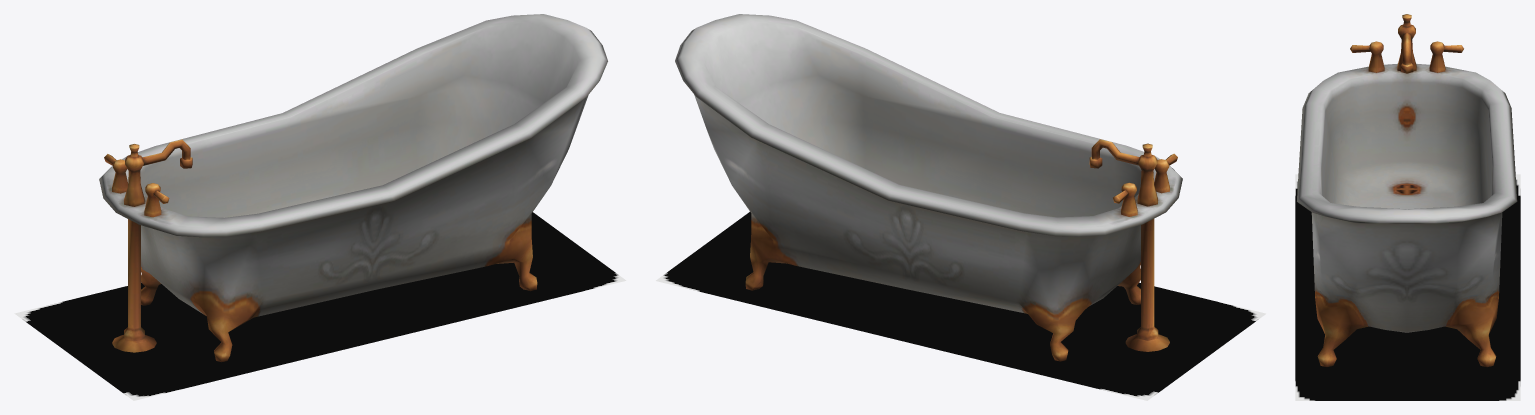
Rendered from jj_ty_bathtubs06_01.FBX.
3 renders of one model, left to right at view 1: azimuth 30°, elevation 25°; view 2: azimuth 150°, elevation 25°; view 3: azimuth 270°, elevation 25°, orthographic. The views are drawn at different scales.
Parts seen in each view (by area): view 1: jj_ty_bathtubs06_01, yinying; view 2: jj_ty_bathtubs06_01, yinying; view 3: jj_ty_bathtubs06_01, yinying.
Boxes of the visible parts, box(x1,y1,x2,y2) form: jj_ty_bathtubs06_01: box(99, 14, 607, 362); yinying: box(14, 212, 626, 400); jj_ty_bathtubs06_01: box(675, 14, 1182, 361); yinying: box(656, 212, 1265, 400); jj_ty_bathtubs06_01: box(1297, 14, 1517, 367); yinying: box(1295, 174, 1520, 400).
Bounding box in the file's own units: 92.84 × 35.82 × 37.16.
Materials: 2 (2 with a texture image).
